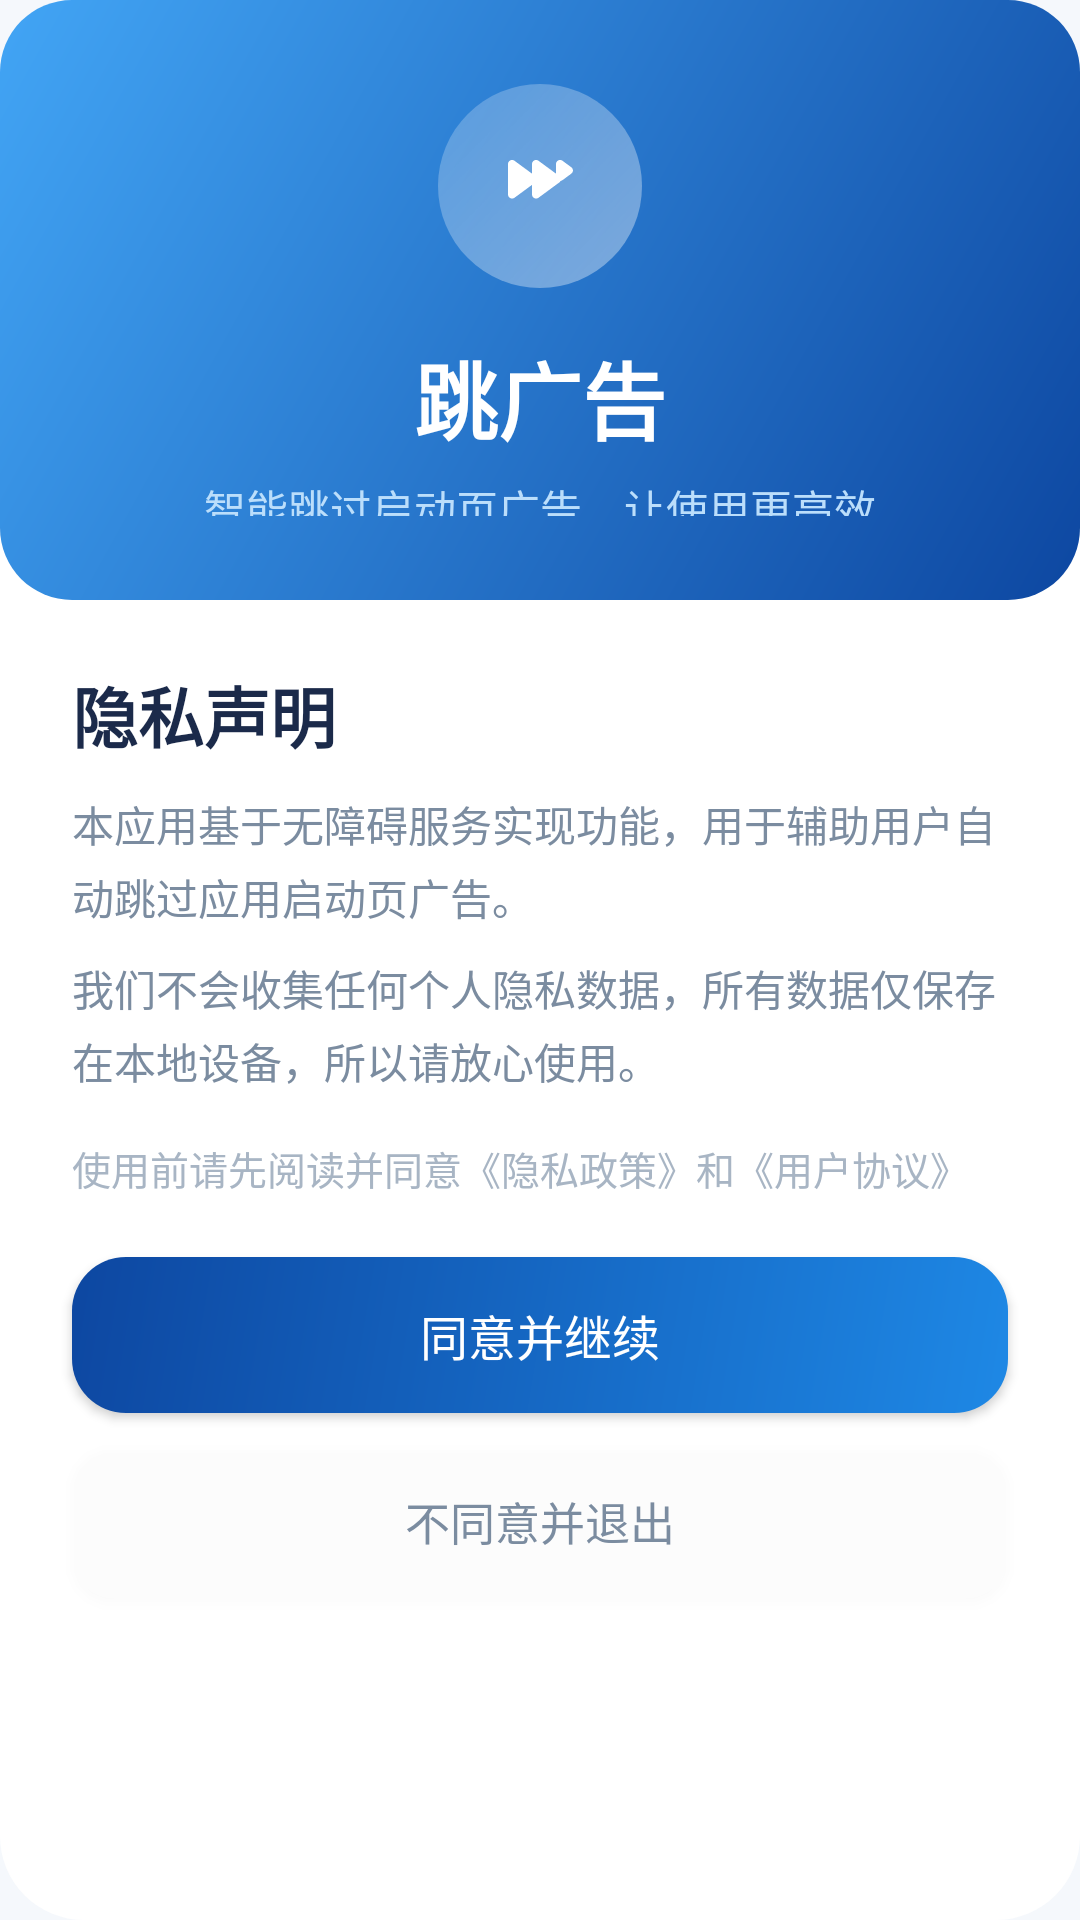

Locate icon controls on the screen. Image size 1080w x 1920h, boxes as (x1, y1, x2, y2).
jumper mark: (508, 160, 573, 199)
